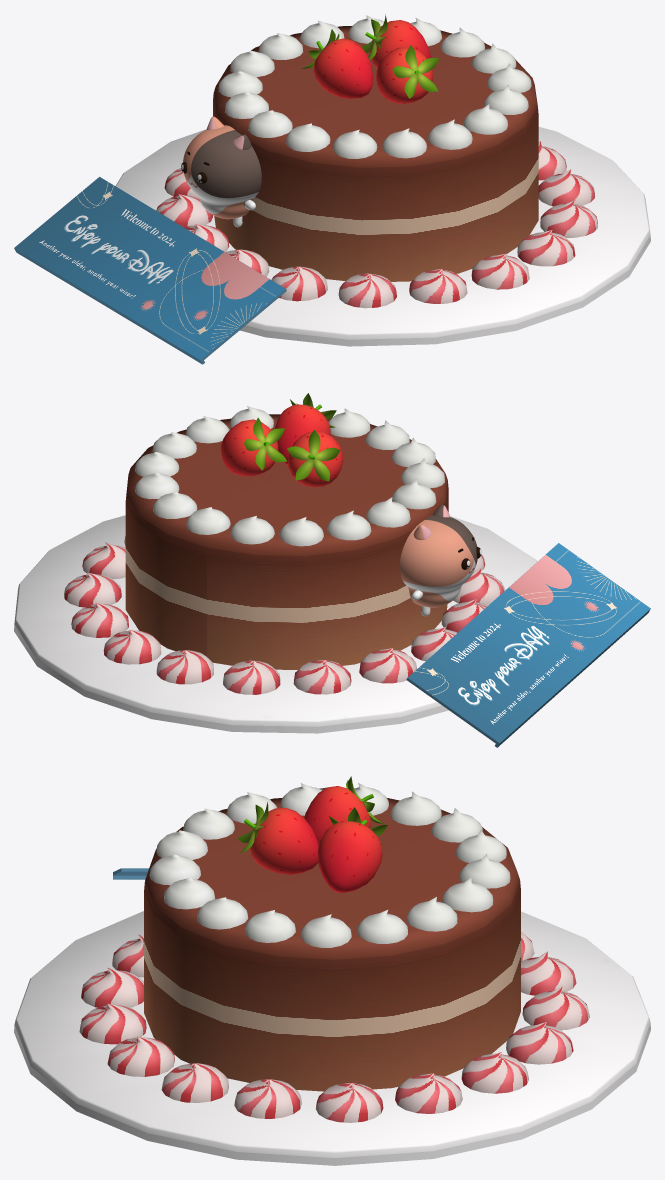
File: cat_cake_2.glb
The picture shows the model from 3 angles, top to bottom: view 1: azimuth 30°, elevation 25°; view 2: azimuth 150°, elevation 25°; view 3: azimuth 270°, elevation 25°; orthographic projection. The views are drawn at different scales.
Visible parts, largest first — view 1: Cake, Mesh_0, Object_27, Sphere010, Sphere032, Sphere025, Sphere024, Sphere022, Sphere023, Sphere026, Sphere027, Sphere021 (+22 smaller); view 2: Cake, Mesh_0, Object_27, Sphere005, Sphere032, Sphere015, Sphere017, Sphere016, Sphere031, Sphere030, Sphere018, Sphere029 (+21 smaller); view 3: Cake, Sphere005, Sphere032, Sphere030, Sphere029, Sphere028, Sphere031, Sphere027, Sphere026, Sphere025, Sphere024, Sphere015 (+20 smaller).
Part boxes in pixels (x1,y1,x2,y2): Cake: [115, 26, 650, 346]; Mesh_0: [14, 177, 286, 364]; Object_27: [183, 125, 261, 227]; Sphere010: [313, 38, 372, 98]; Sphere032: [376, 47, 432, 103]; Sphere025: [517, 229, 575, 266]; Sphere024: [471, 253, 529, 289]; Sphere022: [338, 273, 396, 308]; Sphere023: [409, 269, 467, 303]; Sphere026: [540, 200, 597, 237]; Sphere027: [538, 169, 594, 206]; Sphere021: [271, 266, 327, 301]; Cake: [14, 414, 537, 733]; Mesh_0: [406, 543, 650, 747]; Object_27: [400, 515, 477, 616]; Sphere005: [221, 419, 278, 476]; Sphere032: [274, 404, 330, 464]; Sphere015: [156, 650, 213, 684]; Sphere017: [293, 660, 351, 694]; Sphere016: [223, 660, 280, 694]; Sphere031: [103, 630, 161, 664]; Sphere030: [71, 603, 128, 637]; Sphere018: [359, 648, 416, 683]; Sphere029: [64, 572, 121, 607]; Cake: [14, 798, 650, 1165]; Sphere005: [317, 819, 382, 892]; Sphere032: [244, 808, 318, 874]; Sphere030: [461, 1052, 528, 1093]; Sphere029: [395, 1073, 462, 1113]; Sphere028: [315, 1083, 383, 1122]; Sphere031: [506, 1021, 573, 1064]; Sphere027: [234, 1079, 301, 1118]; Sphere026: [161, 1063, 228, 1102]; Sphere025: [107, 1036, 174, 1076]; Sphere024: [79, 1003, 146, 1044]; Sphere015: [522, 986, 589, 1030].
Size of the model in its own units: 1.88 by 0.7197 by 1.71.
12 materials, 11 textured.
